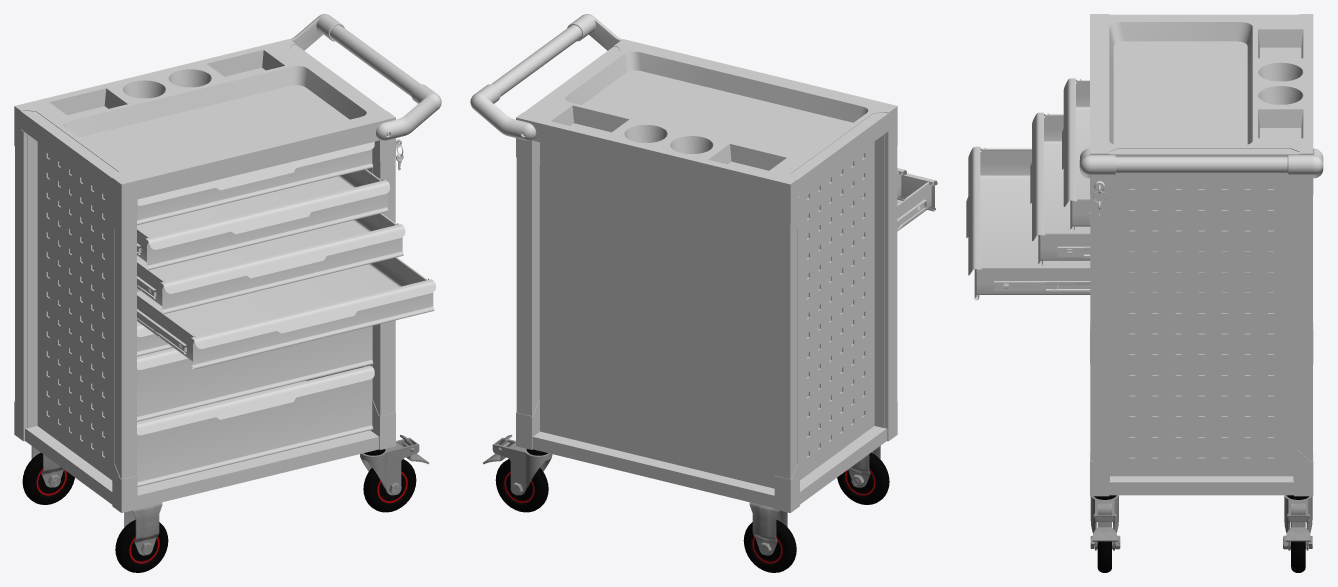
File: toolchest.glb
3 views of the same model, side by side, from view 1: azimuth 30°, elevation 25°; view 2: azimuth 150°, elevation 25°; view 3: azimuth 270°, elevation 25° (orthographic). The views are drawn at different scales.
Parts seen in each view (by area): view 1: Cube.005, Cube.004, Cylinder.003; view 2: Cube.005, Cylinder.003, Cube.004; view 3: Cube.005, Cube.004, Cylinder.003.
Part boxes in pixels (x1=…): Cube.005: x1=14, y1=14, x2=441, y2=512; Cube.004: x1=137, y1=141, x2=435, y2=486; Cylinder.003: x1=22, y1=434, x2=428, y2=572; Cube.005: x1=470, y1=14, x2=897, y2=512; Cylinder.003: x1=483, y1=434, x2=889, y2=572; Cube.004: x1=897, y1=168, x2=937, y2=231; Cube.005: x1=1079, y1=14, x2=1323, y2=496; Cube.004: x1=966, y1=78, x2=1090, y2=300; Cylinder.003: x1=1090, y1=495, x2=1312, y2=572.
Size of the model in its own units: 0.7895 by 0.9808 by 0.7345.
Materials: 2 (1 with a texture image).
